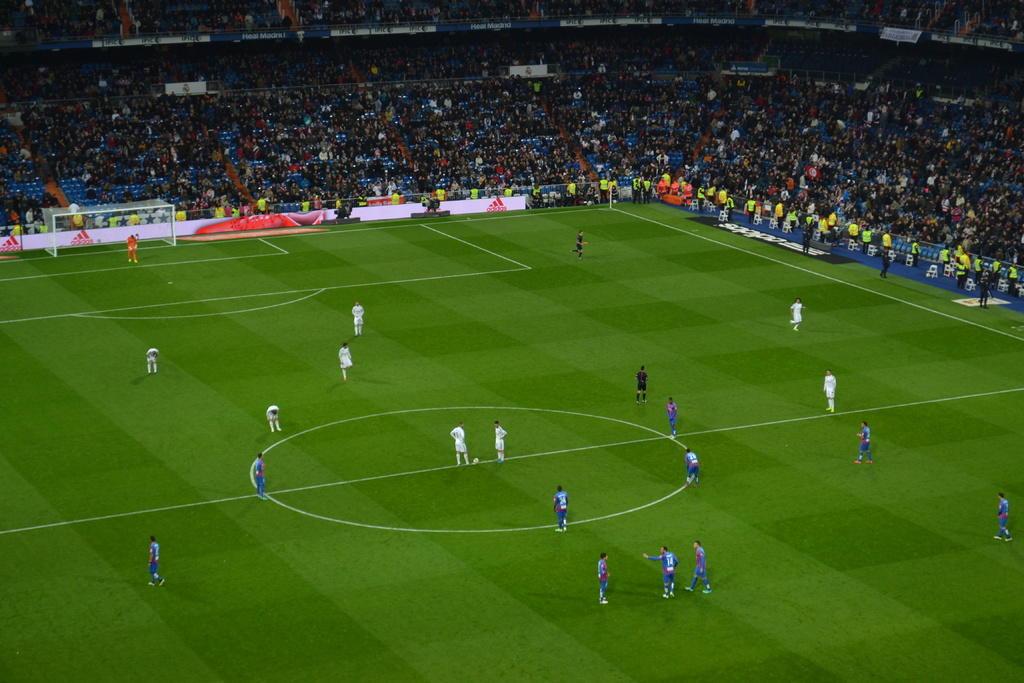Ball: (470, 459, 480, 466)
